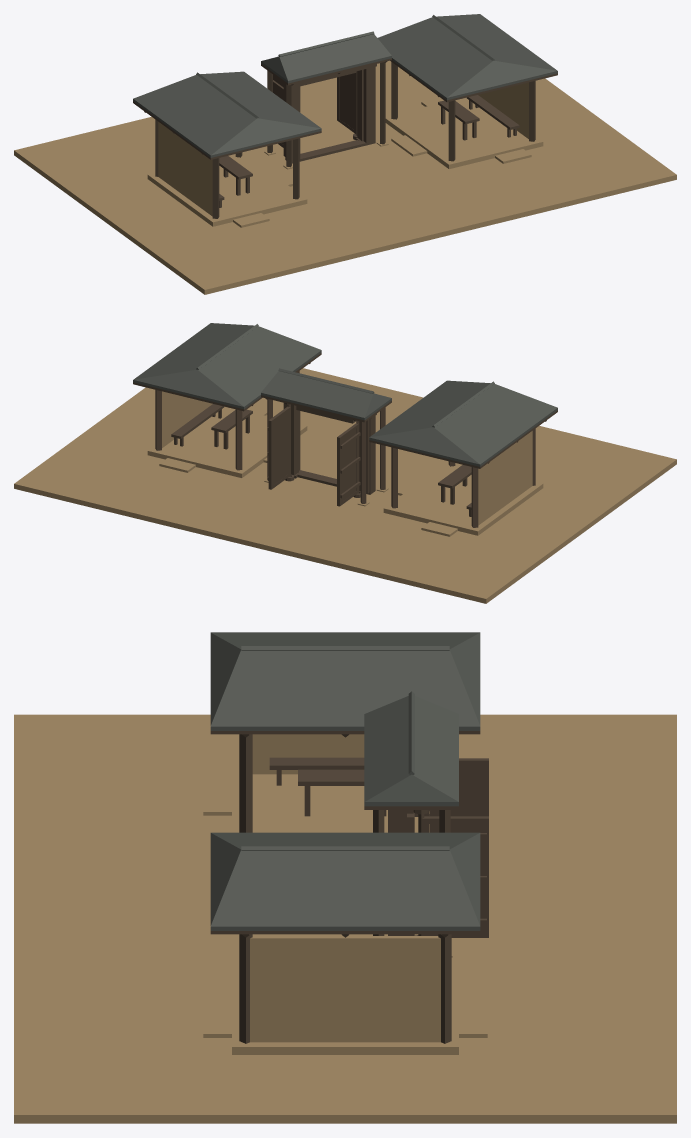
Rendered from guard-slice-open-LOD2.glb.
3 views of the same model, one above another, from view 1: azimuth 30°, elevation 25°; view 2: azimuth 150°, elevation 25°; view 3: azimuth 270°, elevation 25° (orthographic). The views are drawn at different scales.
Visible parts, largest first — view 1: guard-slice-ground-earth, guard-slice-west-tile, guard-slice-east-tile, guard-slice-west-earth, guard-slice-east-earth, guard-slice-portal-timber, guard-slice-portal-tile, guard-slice-east-timber, guard-slice-west-timber, guard-slice-leaf_R-timber; view 2: guard-slice-ground-earth, guard-slice-west-tile, guard-slice-east-tile, guard-slice-west-earth, guard-slice-east-earth, guard-slice-portal-timber, guard-slice-portal-tile, guard-slice-east-timber, guard-slice-west-timber, guard-slice-leaf_L-timber, guard-slice-leaf_R-timber; view 3: guard-slice-ground-earth, guard-slice-east-tile, guard-slice-east-earth, guard-slice-west-tile, guard-slice-west-earth, guard-slice-portal-tile, guard-slice-west-timber, guard-slice-east-timber, guard-slice-leaf_R-timber, guard-slice-leaf_L-timber, guard-slice-portal-timber.
Part boxes in pixels (<box>): guard-slice-ground-earth: <box>14,60,676,294</box>; guard-slice-west-tile: <box>133,71,321,157</box>; guard-slice-east-tile: <box>378,14,557,100</box>; guard-slice-west-earth: <box>147,122,307,227</box>; guard-slice-east-earth: <box>385,82,543,168</box>; guard-slice-portal-timber: <box>261,58,391,167</box>; guard-slice-portal-tile: <box>261,31,391,83</box>; guard-slice-east-timber: <box>390,60,557,161</box>; guard-slice-west-timber: <box>133,101,321,218</box>; guard-slice-leaf_R-timber: <box>337,71,357,135</box>; guard-slice-ground-earth: <box>14,368,676,603</box>; guard-slice-west-tile: <box>369,380,557,466</box>; guard-slice-east-tile: <box>133,323,321,409</box>; guard-slice-west-earth: <box>383,431,543,536</box>; guard-slice-east-earth: <box>147,391,307,477</box>; guard-slice-portal-timber: <box>261,395,391,503</box>; guard-slice-portal-tile: <box>261,368,391,420</box>; guard-slice-east-timber: <box>133,353,321,470</box>; guard-slice-west-timber: <box>369,410,557,527</box>; guard-slice-leaf_L-timber: <box>337,421,360,506</box>; guard-slice-leaf_R-timber: <box>267,404,290,489</box>; guard-slice-ground-earth: <box>14,714,676,1123</box>; guard-slice-east-tile: <box>210,832,480,930</box>; guard-slice-east-earth: <box>203,936,487,1054</box>; guard-slice-west-tile: <box>210,632,480,730</box>; guard-slice-west-earth: <box>203,734,429,832</box>; guard-slice-portal-tile: <box>364,691,458,806</box>; guard-slice-west-timber: <box>210,731,480,832</box>; guard-slice-east-timber: <box>210,931,480,1043</box>; guard-slice-leaf_R-timber: <box>418,814,488,937</box>; guard-slice-leaf_L-timber: <box>424,758,488,816</box>; guard-slice-portal-timber: <box>364,806,458,935</box>.
Bounding box in the file's own units: 20 × 4.48 × 14.
